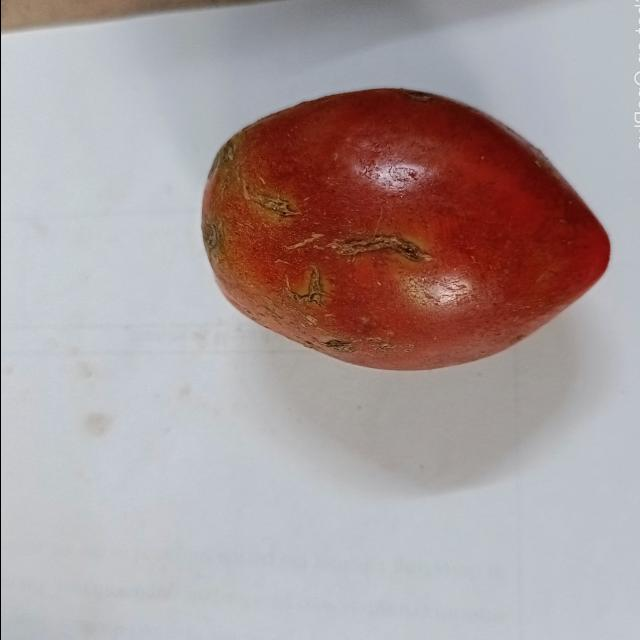Bacterial_Spot: (334, 235, 432, 259), (242, 187, 298, 215), (294, 266, 324, 302), (320, 335, 354, 354)
